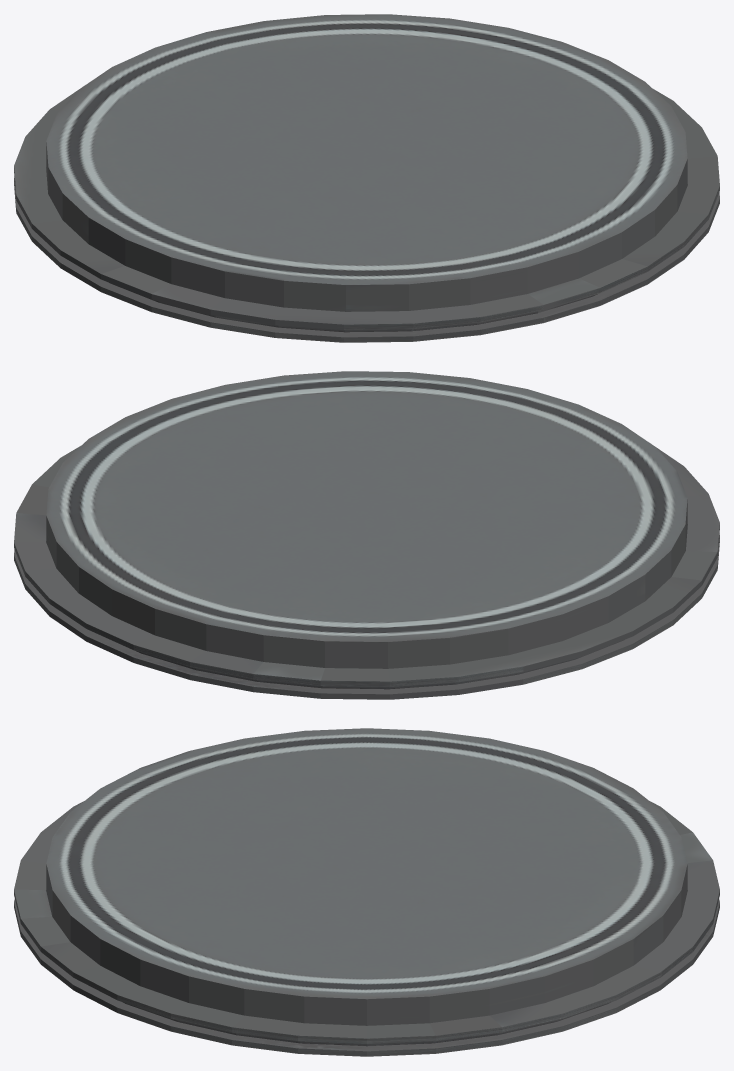
Rendered from Pedal2.fbx.
The picture shows the model from 3 angles, top to bottom: view 1: azimuth 30°, elevation 25°; view 2: azimuth 150°, elevation 25°; view 3: azimuth 270°, elevation 25°; orthographic projection.
Parts seen in each view (by area): view 1: Pedal_button, Pedal_side, Pedal_Light; view 2: Pedal_button, Pedal_side, Pedal_Light; view 3: Pedal_button, Pedal_side, Pedal_Light.
Boxes of the visible parts, <box> form: Pedal_button: <box>46,14,687,311</box>; Pedal_side: <box>14,88,719,342</box>; Pedal_Light: <box>110,283,597,332</box>; Pedal_button: <box>46,371,687,668</box>; Pedal_side: <box>14,445,719,699</box>; Pedal_Light: <box>136,640,623,689</box>; Pedal_button: <box>46,728,687,1025</box>; Pedal_side: <box>14,801,719,1056</box>; Pedal_Light: <box>123,1002,610,1046</box>.
Size of the model in its own units: 96.36 by 6.61 by 96.36.
Materials: 1 (1 with a texture image).
